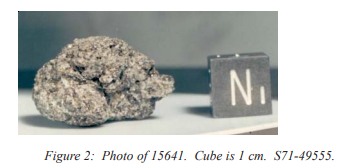Basalt: (22, 24, 181, 131)
